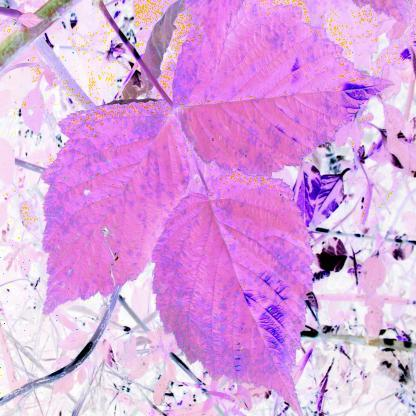Raspberry leaf: (172, 0, 397, 178), (154, 168, 303, 416), (41, 95, 174, 318)
